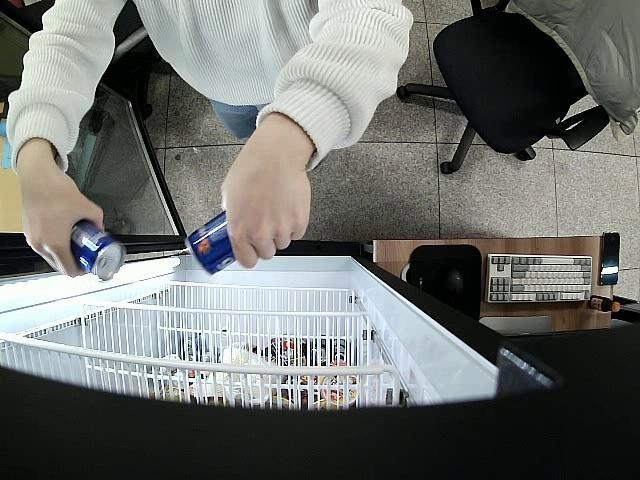16_hot6: (72, 220, 124, 285), (184, 210, 234, 273)
